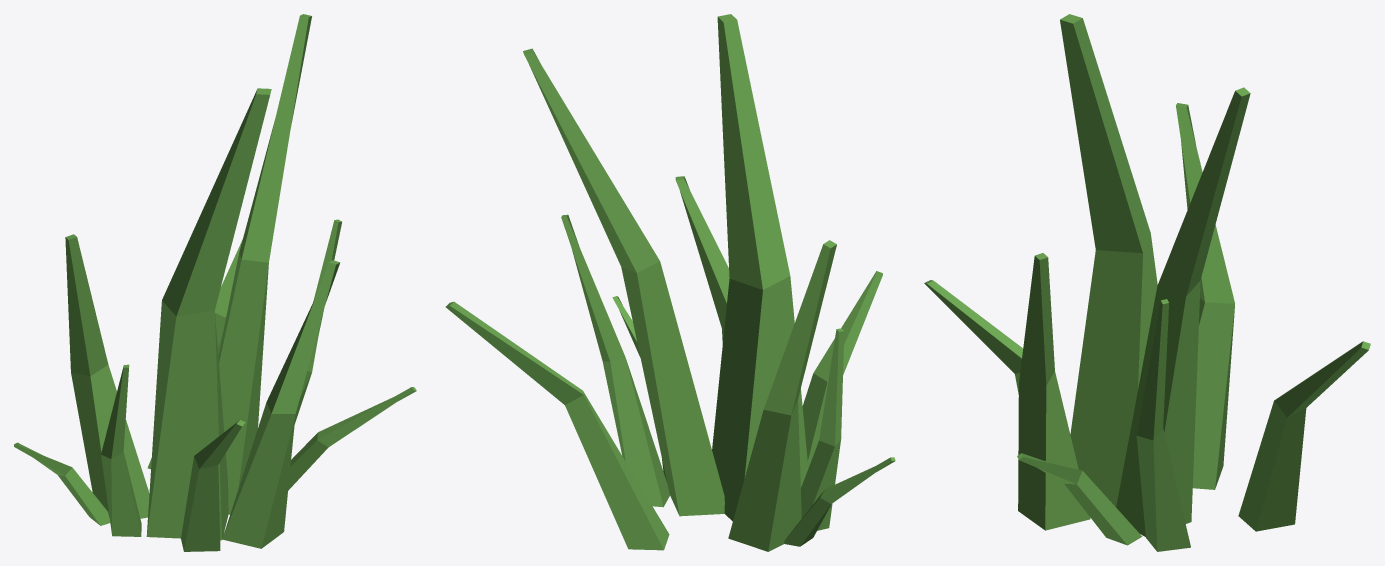
File: GrassSmall.fbx
3 renders of one model, left to right at view 1: azimuth 30°, elevation 25°; view 2: azimuth 150°, elevation 25°; view 3: azimuth 270°, elevation 25°, orthographic. The views are drawn at different scales.
Visible parts, largest first — view 1: GrassSmall; view 2: GrassSmall; view 3: GrassSmall.
Boxes of the visible parts, left/top/right/bottom form: GrassSmall: left=14, top=14, right=416, bottom=551; GrassSmall: left=445, top=14, right=895, bottom=551; GrassSmall: left=924, top=14, right=1370, bottom=551.
Bounding box in the file's own units: 70.3 × 84.46 × 67.52.
